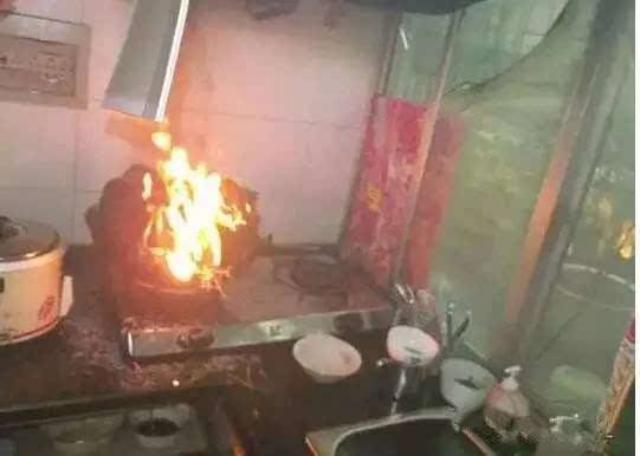fire: (160, 149, 222, 281), (136, 168, 152, 202), (221, 207, 241, 229), (151, 129, 173, 147)
